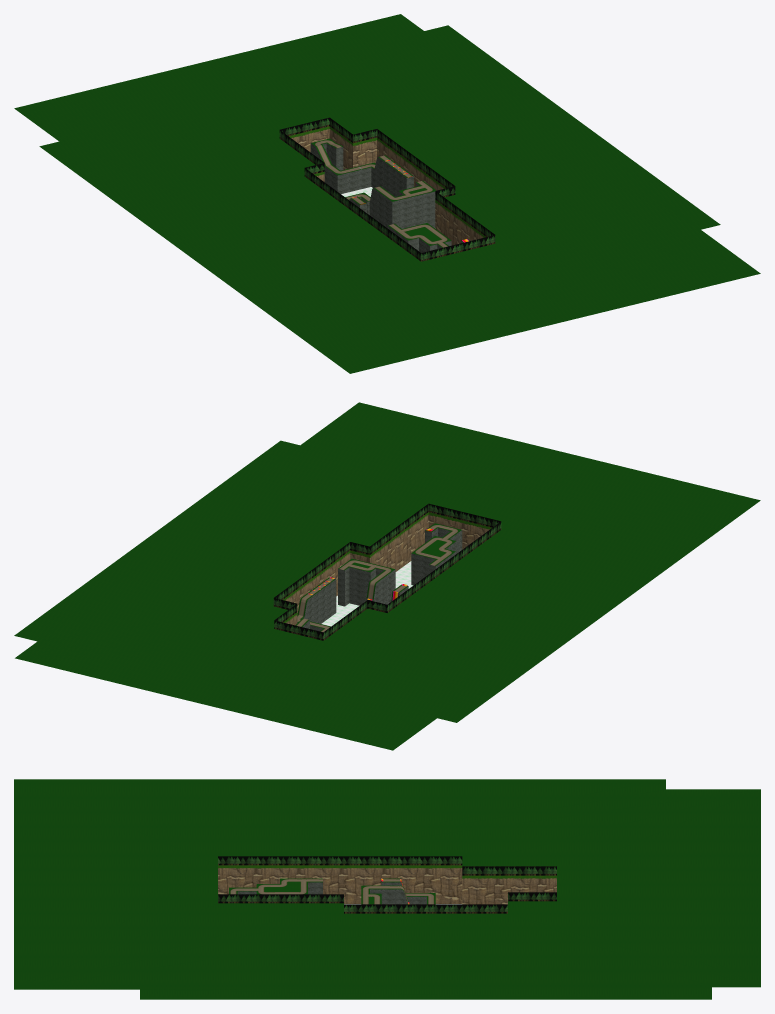
The picture shows the model from 3 angles, top to bottom: view 1: azimuth 30°, elevation 25°; view 2: azimuth 150°, elevation 25°; view 3: azimuth 270°, elevation 25°; orthographic projection. The views are drawn at different scales.
Parts seen in each view (by area): view 1: mushroom_hillside-SKP--grass, mushroom_hillside-SKP--wall, mushroom_hillside-SKP--trees, mushroom_hillside-SKP--wall2, mushroom_hillside-SKP--road; view 2: mushroom_hillside-SKP--grass, mushroom_hillside-SKP--trees, mushroom_hillside-SKP--wall, mushroom_hillside-SKP--wall2, mushroom_hillside-SKP--road, mushroom_hillside-SKP--enkei_kumo; view 3: mushroom_hillside-SKP--grass, mushroom_hillside-SKP--wall2, mushroom_hillside-SKP--trees, mushroom_hillside-SKP--road, mushroom_hillside-SKP--wall.
Part boxes in pixels (x1,y1,x2,y2): mushroom_hillside-SKP--grass: (14,14,760,373); mushroom_hillside-SKP--wall: (310,143,462,252); mushroom_hillside-SKP--trees: (279,117,495,261); mushroom_hillside-SKP--wall2: (289,126,485,245); mushroom_hillside-SKP--road: (314,140,447,247); mushroom_hillside-SKP--grass: (14,402,760,750); mushroom_hillside-SKP--trees: (273,503,501,640); mushroom_hillside-SKP--wall: (297,528,462,631); mushroom_hillside-SKP--wall2: (283,512,491,625); mushroom_hillside-SKP--road: (296,525,457,632); mushroom_hillside-SKP--enkei_kumo: (321,561,413,626); mushroom_hillside-SKP--grass: (14,779,760,999); mushroom_hillside-SKP--wall2: (218,865,556,904); mushroom_hillside-SKP--trees: (218,856,556,913); mushroom_hillside-SKP--road: (230,879,434,904); mushroom_hillside-SKP--wall: (237,882,426,904).
Bounding box in the file's own units: 307905 × 31100 × 440773.
Materials: 9 (9 with a texture image).
